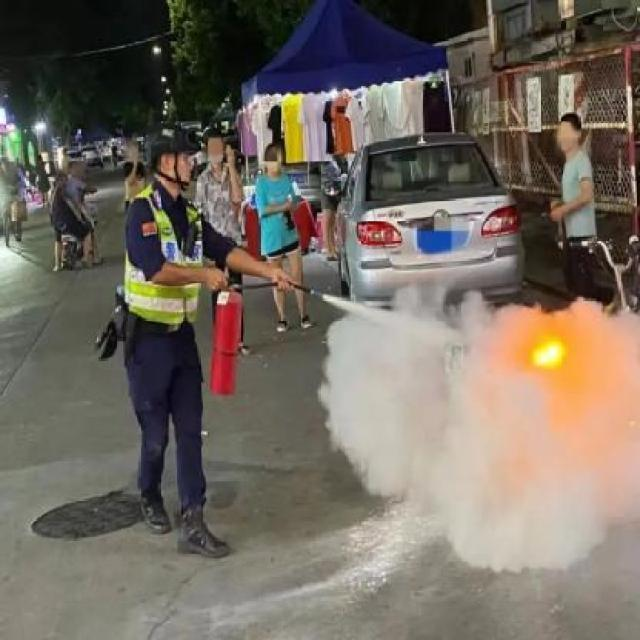Fire: (530, 334, 566, 371)
Smoke: (333, 292, 541, 563)
